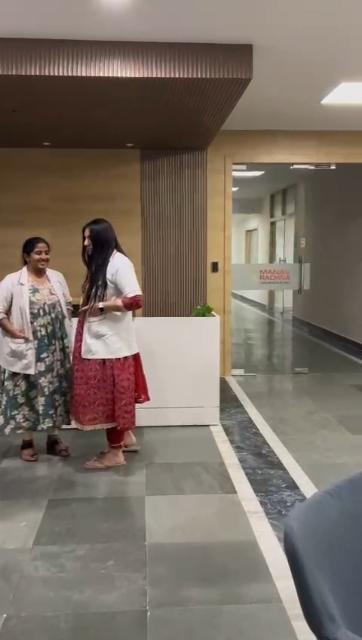floor: (0, 291, 362, 637)
moving-obj: (0, 217, 158, 468)
object: (280, 500, 362, 640)
wall: (0, 47, 238, 155), (0, 151, 228, 213), (142, 211, 224, 305), (192, 128, 362, 162), (321, 183, 362, 318), (54, 210, 78, 270), (2, 204, 22, 270)
